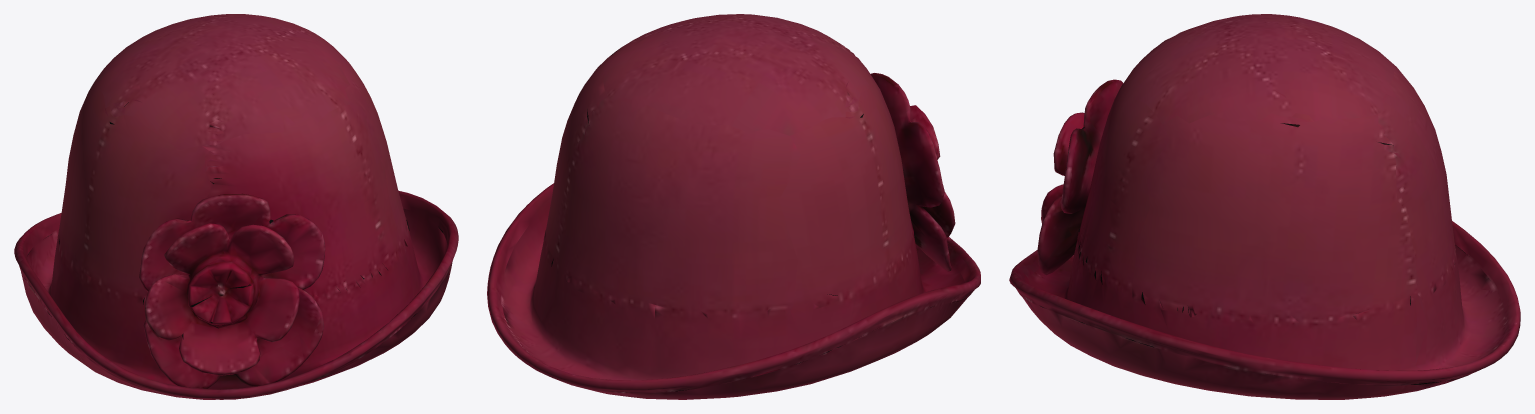
Rendered from flower.glb.
3 views of the same model, side by side, from view 1: azimuth 30°, elevation 25°; view 2: azimuth 150°, elevation 25°; view 3: azimuth 270°, elevation 25° (orthographic). The views are drawn at different scales.
Parts seen in each view (by area): view 1: node_0; view 2: node_0; view 3: node_0.
Boxes of the visible parts, x1,y1,x2,y2 form: node_0: (14,14,458,399); node_0: (487,14,980,399); node_0: (1009,14,1520,399).
Size of the model in its own units: 0.5 by 0.3403 by 0.5365.
Materials: 1 (1 with a texture image).
